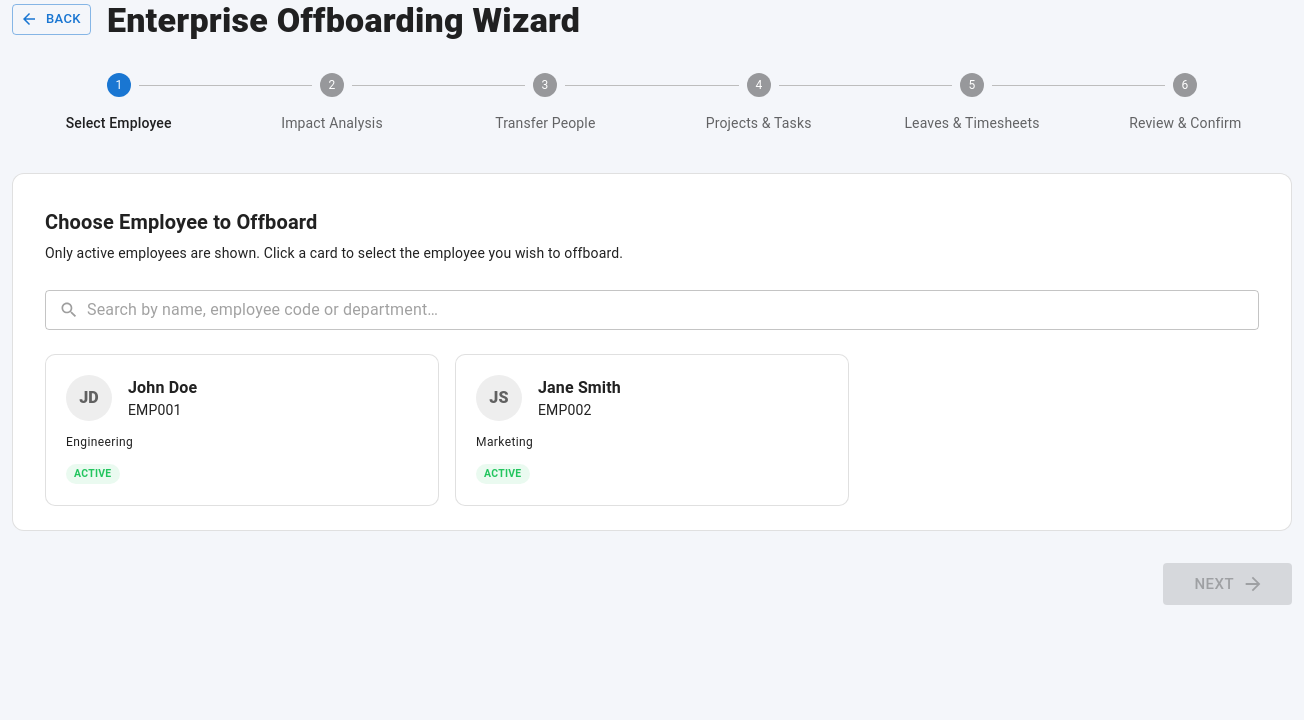
OffboardingWizard › enables "Next" after selecting an employee
The width and height of the screenshot is (1304, 720).
Click the text "John Doe": (163, 388) [128,376,197,400]
(page scrolled)
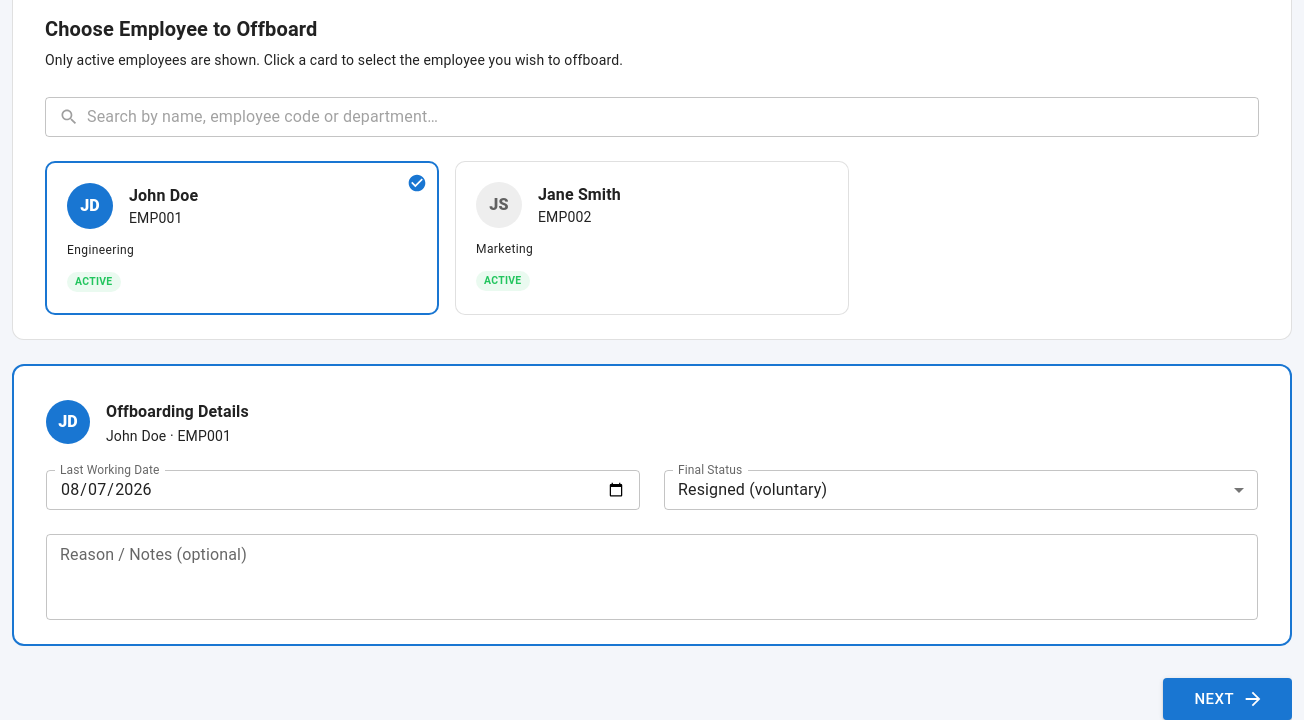
Now the button "Next" is enabled, box [1162,678,1292,719]
